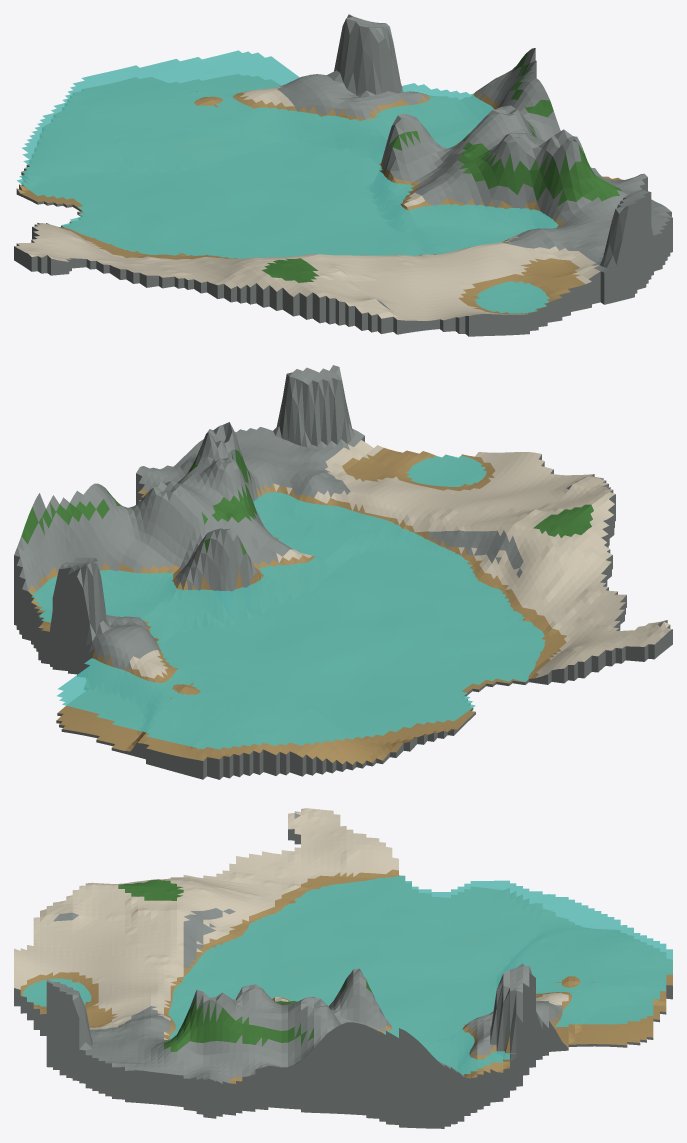
File: pirate-cove-terrain-de4636.glb
3 views of the same model, one above another, from view 1: azimuth 30°, elevation 25°; view 2: azimuth 150°, elevation 25°; view 3: azimuth 270°, elevation 25° (orthographic). The views are drawn at different scales.
Visible parts, largest first — view 1: shore, water; view 2: shore, water; view 3: shore, water.
Part boxes in pixels (left/top/right/bottom): shore: left=14, top=14, right=672, bottom=336; water: left=17, top=50, right=558, bottom=313; shore: left=14, top=365, right=672, bottom=779; water: left=30, top=455, right=545, bottom=749; shore: left=14, top=808, right=672, bottom=1128; water: left=22, top=875, right=672, bottom=1075.
Bounding box in the file's own units: 92 × 18.87 × 101.
